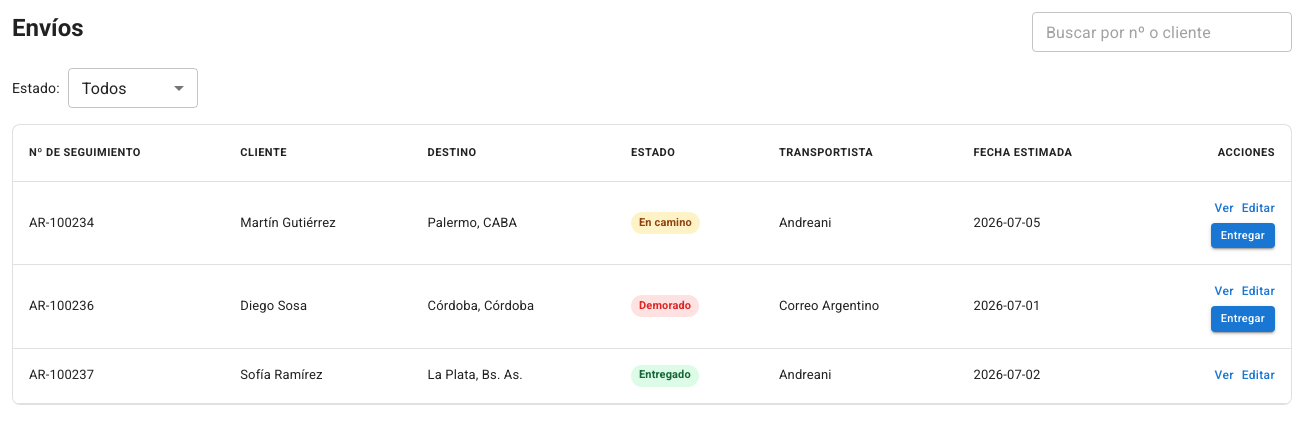
Test case: ShipmentsPage › solicita al backend los envíos filtrados por estado
Check: the text "AR-100234" is shown, box x1=13 y1=182 x2=224 y2=265
Click the dropdown: (104, 88) x1=82 y1=78 x2=127 y2=98
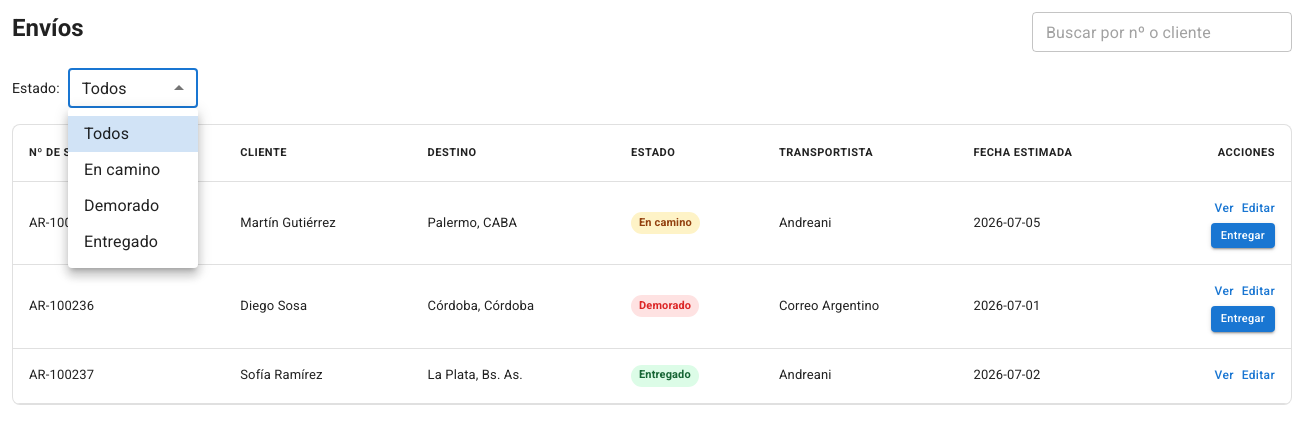
Click the option "Entregado": (121, 242) x1=84 y1=232 x2=158 y2=251
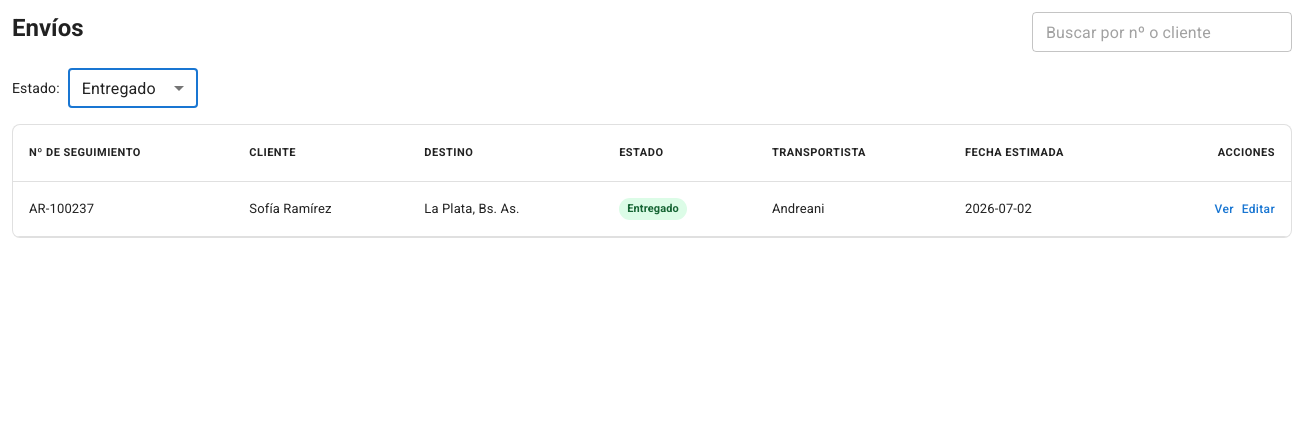
Check: the text "AR-100237" is shown, box x1=13 y1=182 x2=233 y2=236
Check: the text "AR-100234" is gone
Check: the text "AR-100236" is gone
